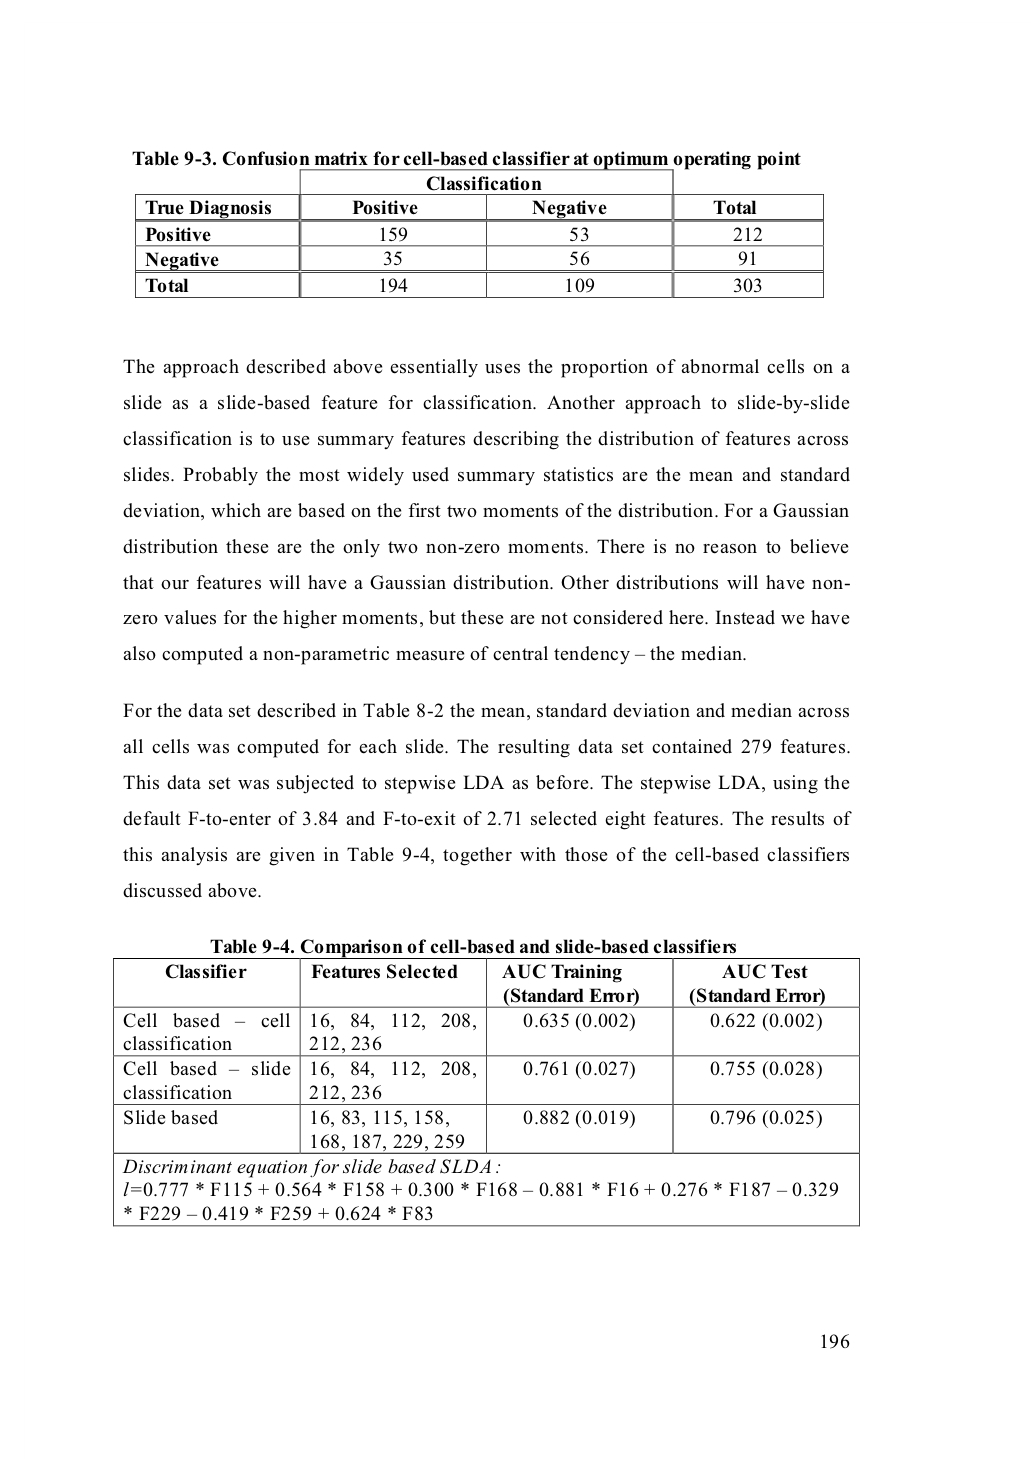Table: (113, 955, 859, 1154), (135, 168, 823, 297)
formula: (113, 1181, 859, 1226)
